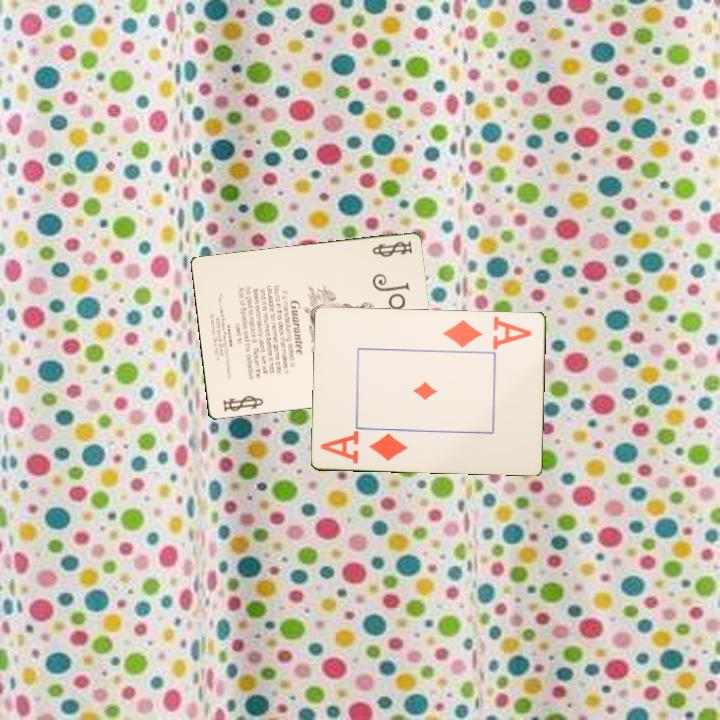Ad: (439, 313, 535, 352), (317, 429, 411, 466)
JK: (219, 392, 266, 415), (369, 238, 415, 260)
